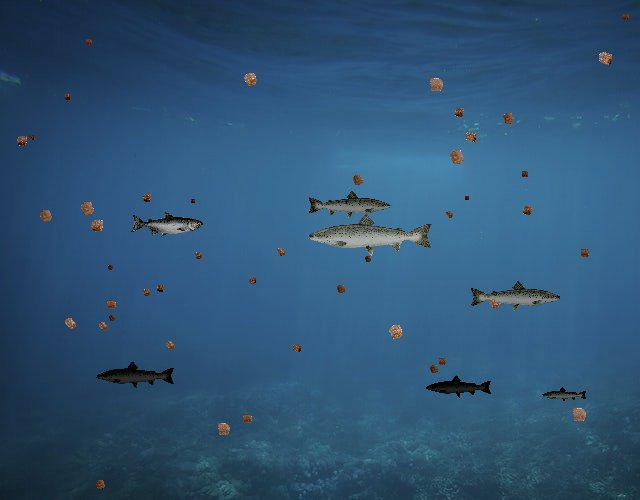Fish: (306, 211, 435, 257), (469, 280, 563, 314), (306, 189, 392, 220), (95, 360, 176, 389), (131, 212, 204, 238), (426, 375, 494, 399), (541, 386, 588, 403)
Pellet: (236, 66, 264, 94), (58, 311, 83, 336), (25, 131, 37, 143)
